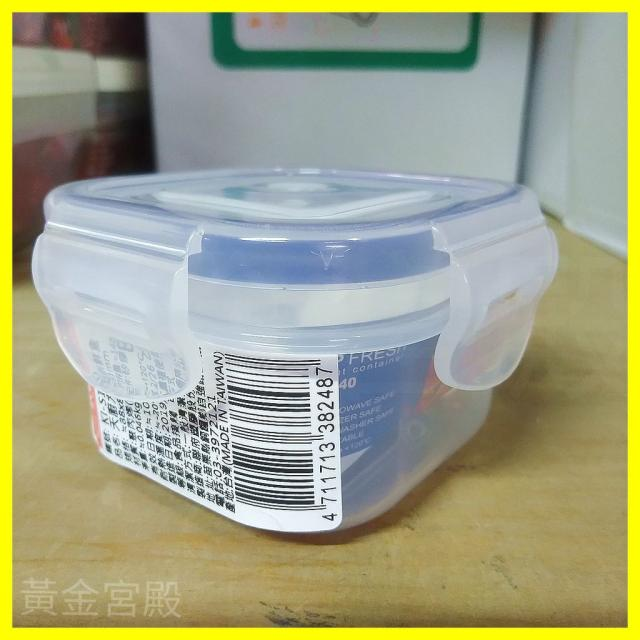plastic: (35, 160, 555, 536)
